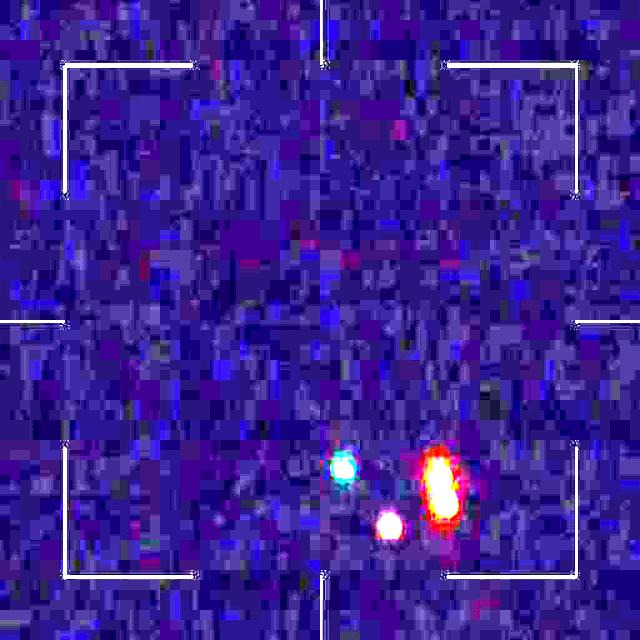bird: (332, 458, 460, 542)
